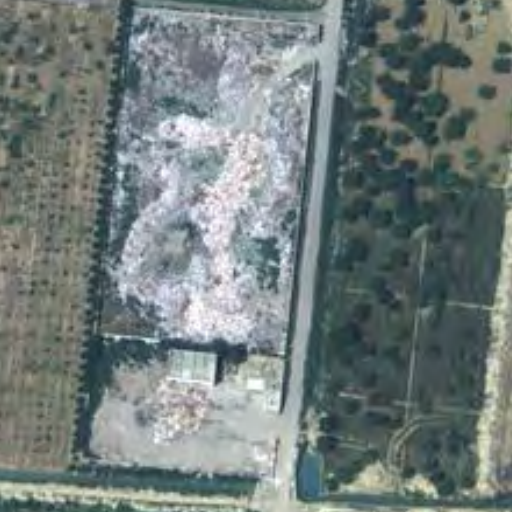msw: (106, 16, 324, 350)
